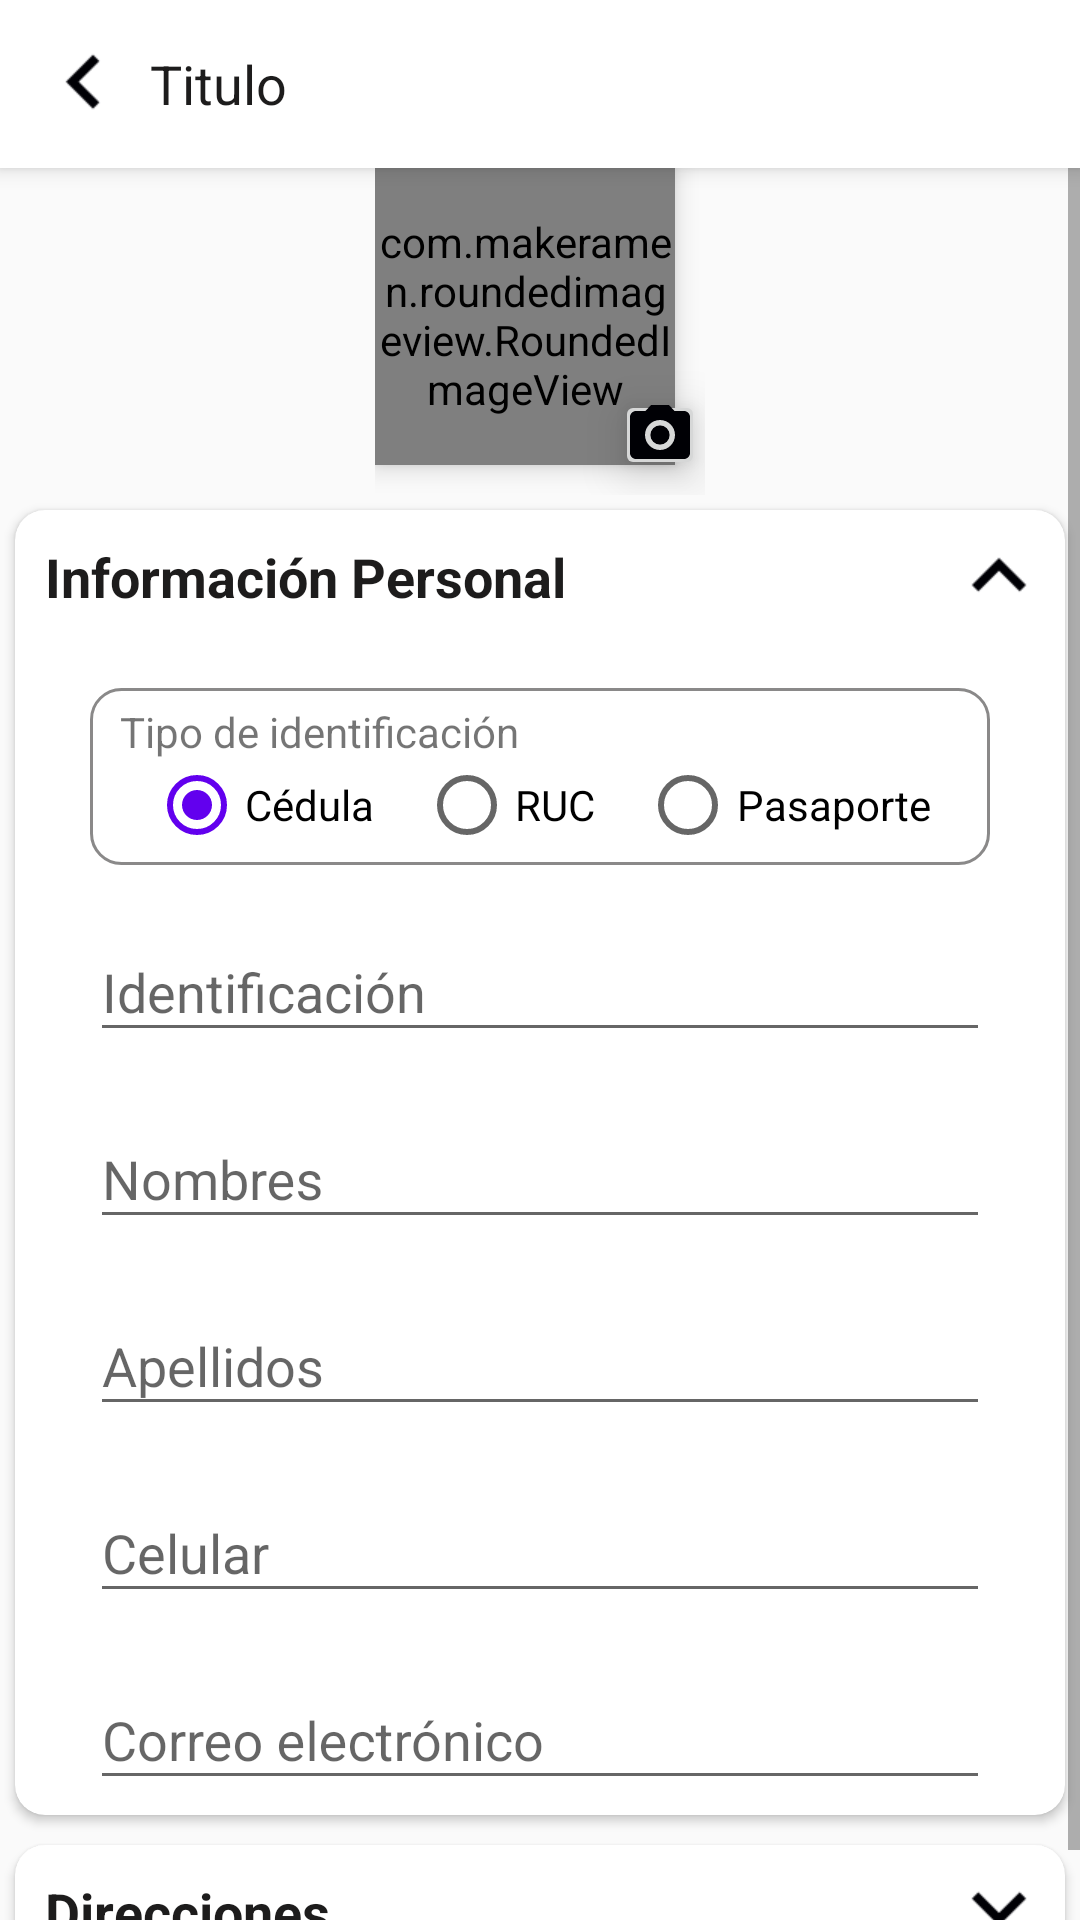

Named icons in this screenshot (1080*1920) and their centers, [x,y]:
camera: [660,435]
